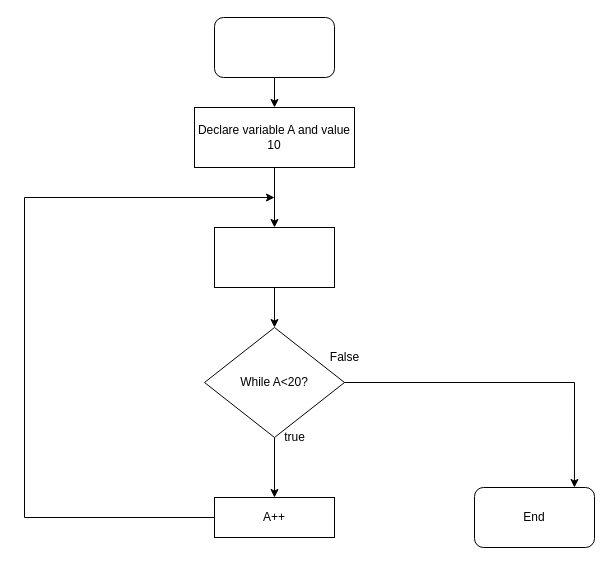
Image size: 612x565. Some labels were removed from this diagram. The shapes that lost their labels are listed below. From the top down, each one's centre as x and y in pixels, then its label:
At point (274, 47): "Start".
At point (274, 257): "Print value of A".
